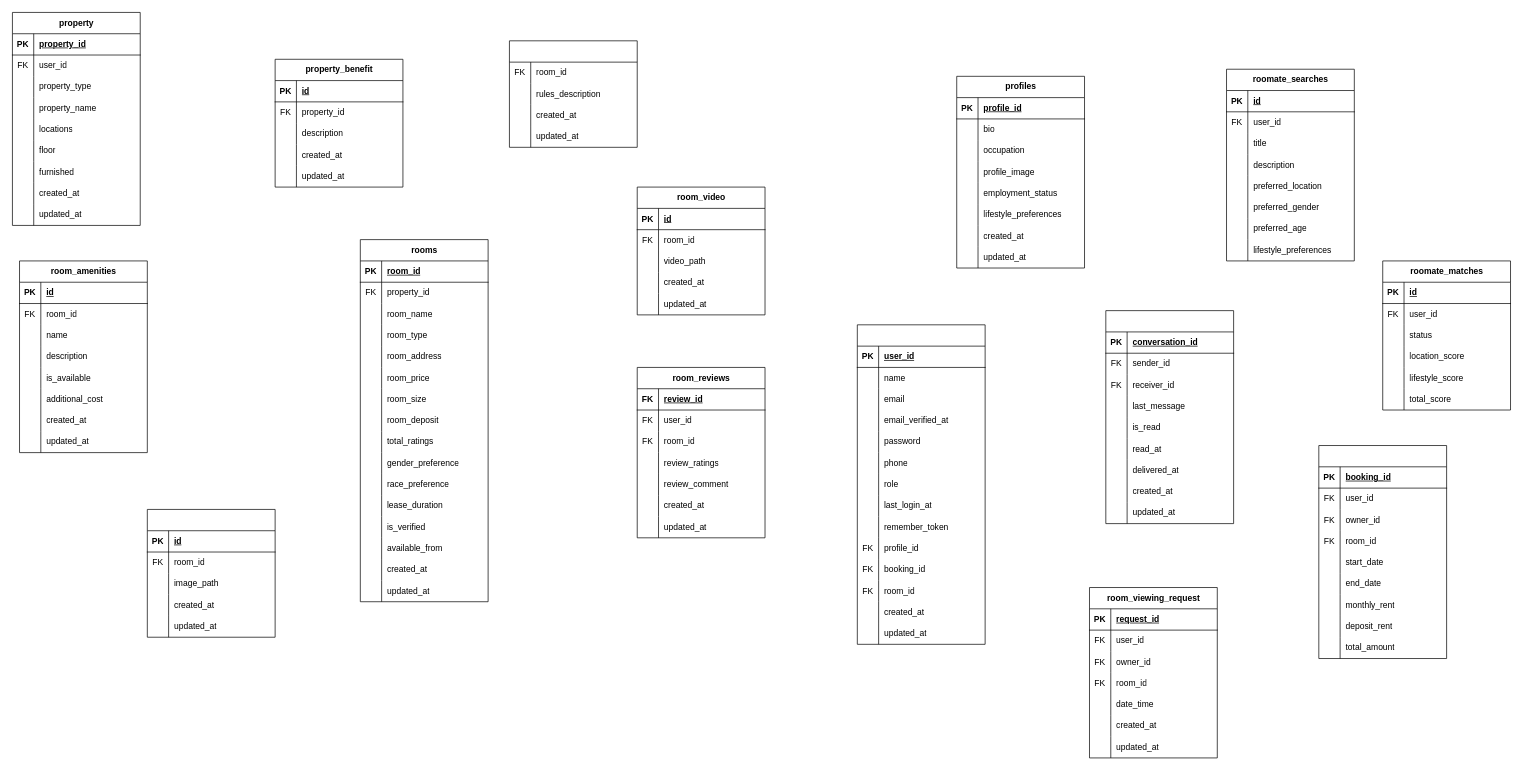
The diagram is 1523 pixels wide and 770 high, and some of its shapes have lost their labels. The shapes that lost their labels are listed below. From the top down, each one's box as (x1, y1, x2, y2) in pixels, then its label:
(509, 40, 637, 147): rental_rules
(1105, 310, 1234, 524): conversations
(857, 324, 985, 644): users
(1318, 445, 1447, 659): bookings
(147, 509, 275, 637): room_image
